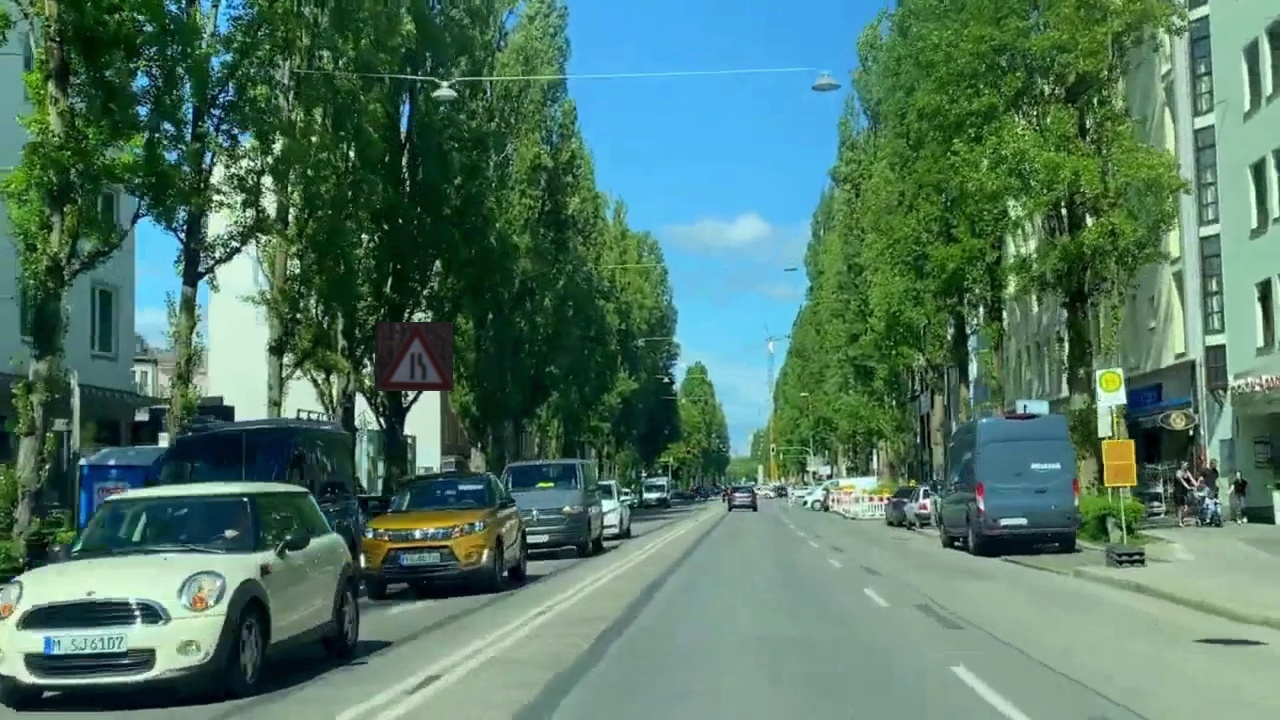Road narrows: (375, 322, 453, 391)
